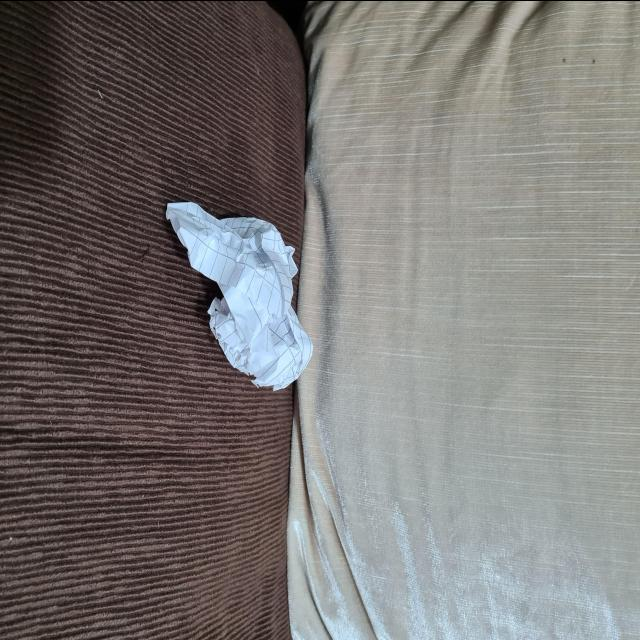kertas: (167, 180, 317, 392)
